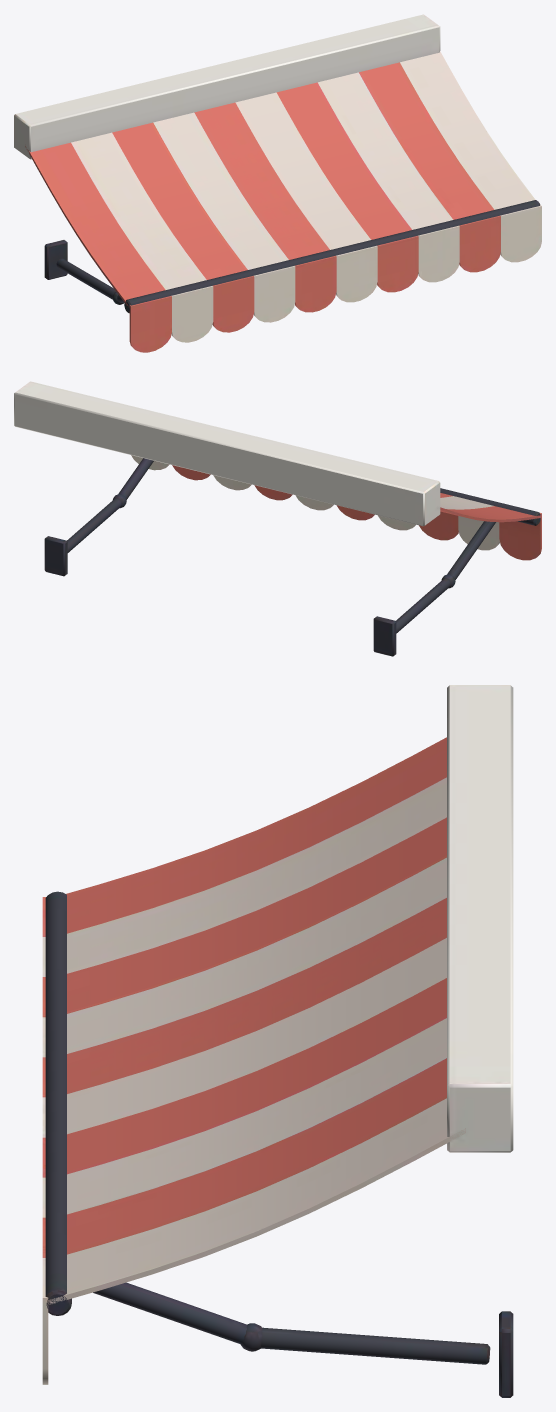
Rendered from awning.glb.
The picture shows the model from 3 angles, top to bottom: view 1: azimuth 30°, elevation 25°; view 2: azimuth 150°, elevation 25°; view 3: azimuth 270°, elevation 25°; orthographic projection. The views are drawn at different scales.
Parts seen in each view (by area): view 1: awning_body; view 2: awning_body; view 3: awning_body.
Part boxes in pixels (x1=…): awning_body: x1=14, y1=14, x2=541, y2=352; awning_body: x1=14, y1=381, x2=541, y2=656; awning_body: x1=42, y1=685, x2=513, y2=1397.
Bounding box in the file's own units: 2 × 0.8 × 0.992.
1 material, 1 textured.
